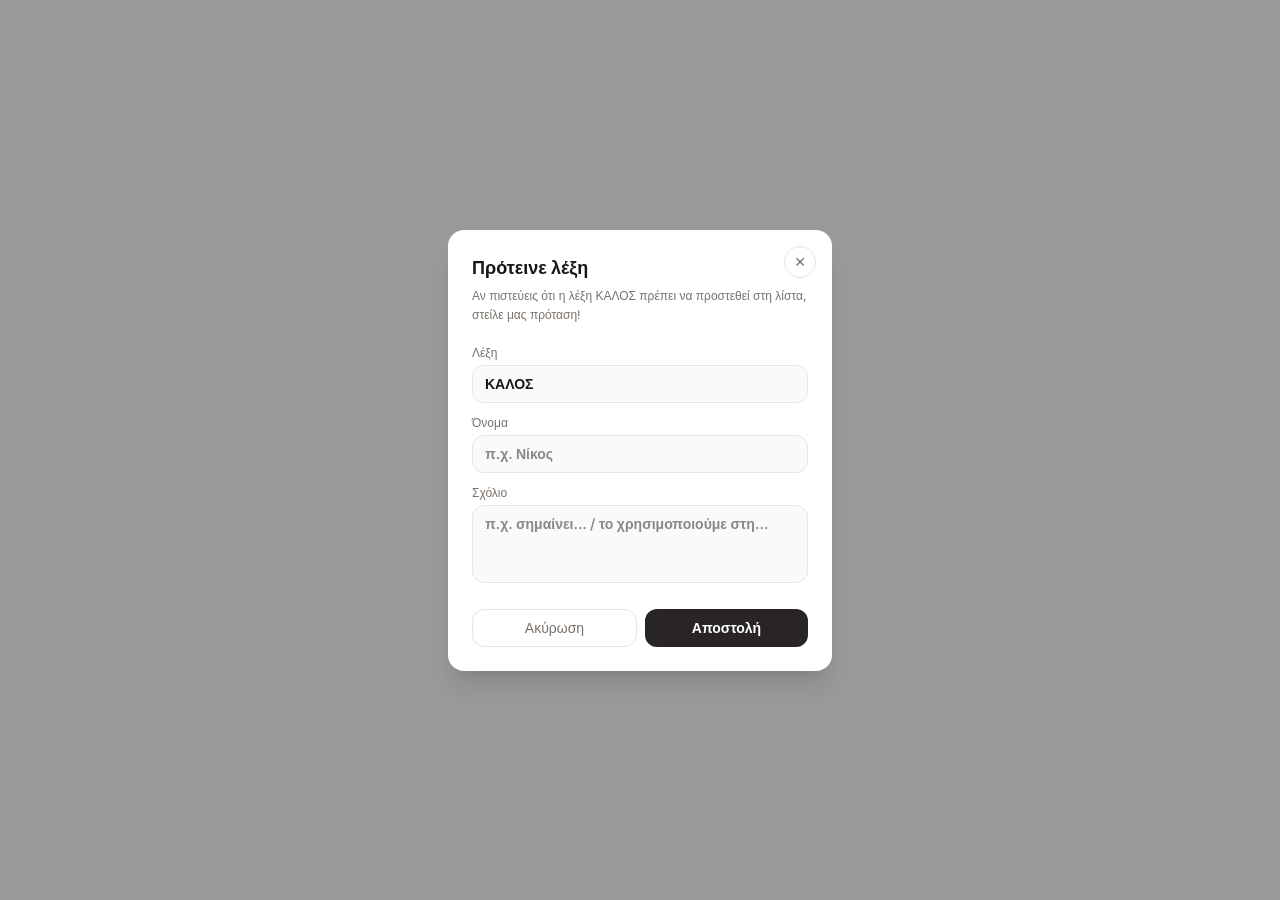
Test: NominationModal — mandatory fields › refuses to post with no name and lights the name field
Type "μια κανονική εξήγηση" into the text box with test id "nomination-modal-note" at point(640, 544), box left=472, top=504, right=808, bottom=582
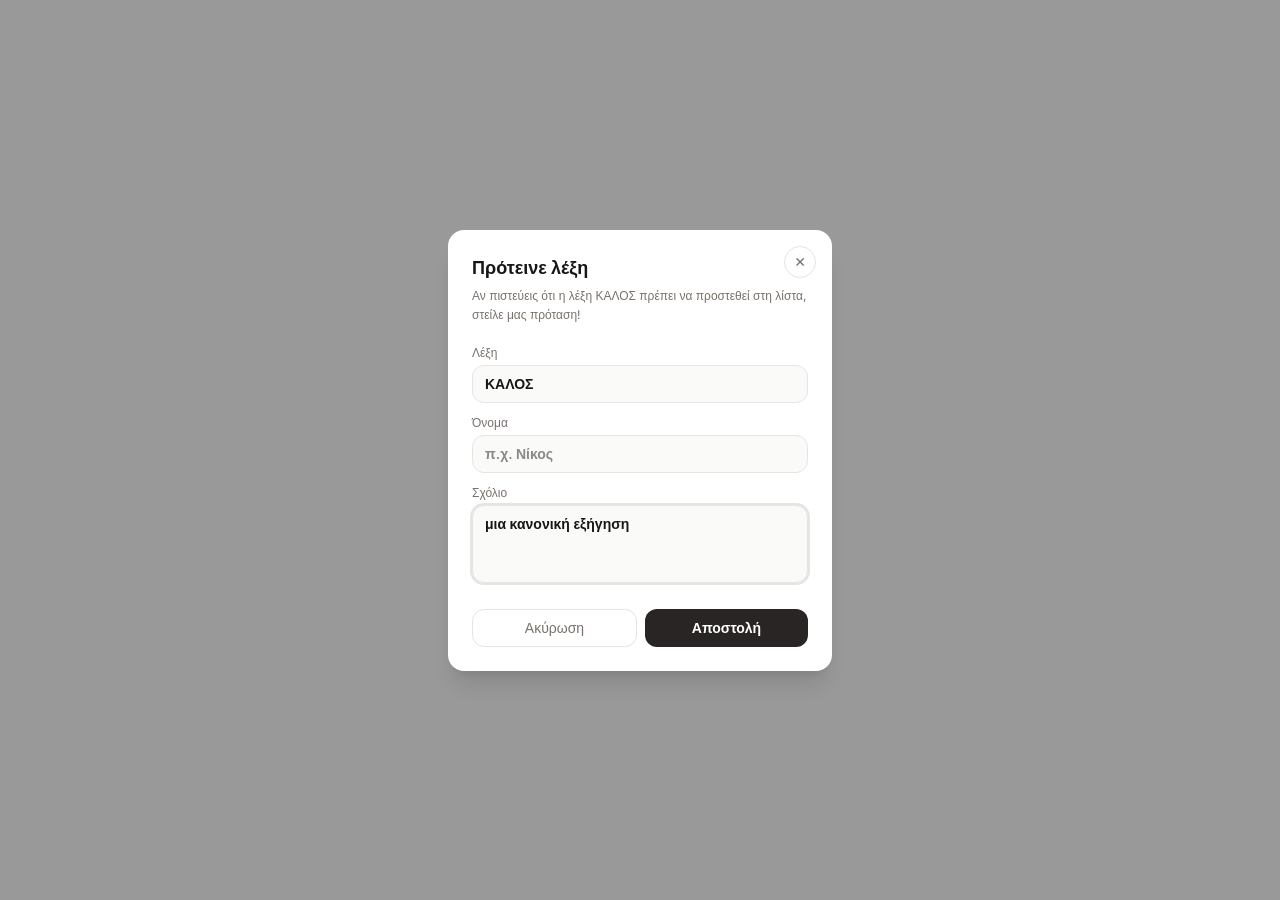
Click the button with test id "nomination-modal-submit" at point(726, 628), box left=645, top=608, right=808, bottom=646
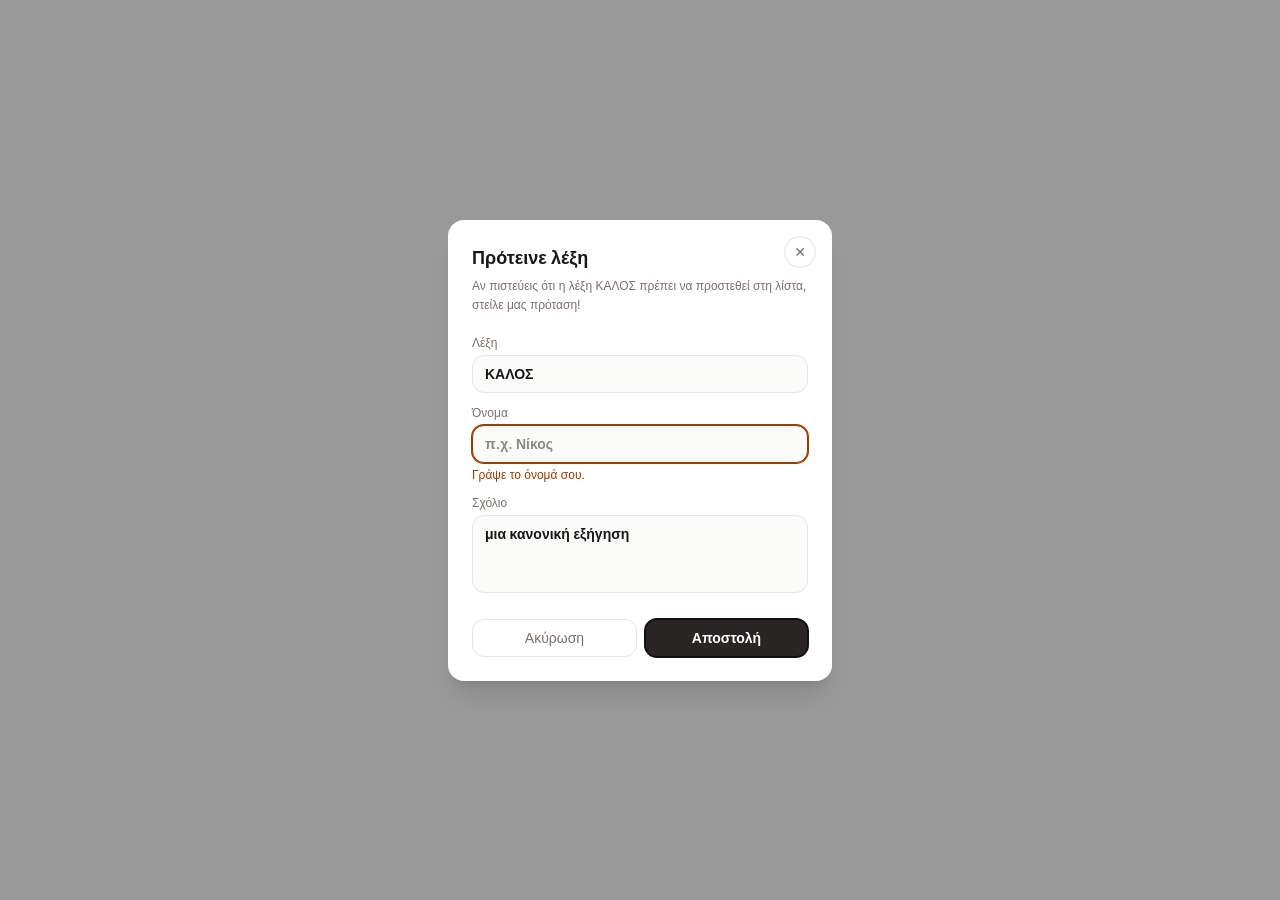
Expected: the text "Γράψε το όνομά σου." is shown, left=472, top=466, right=585, bottom=482
